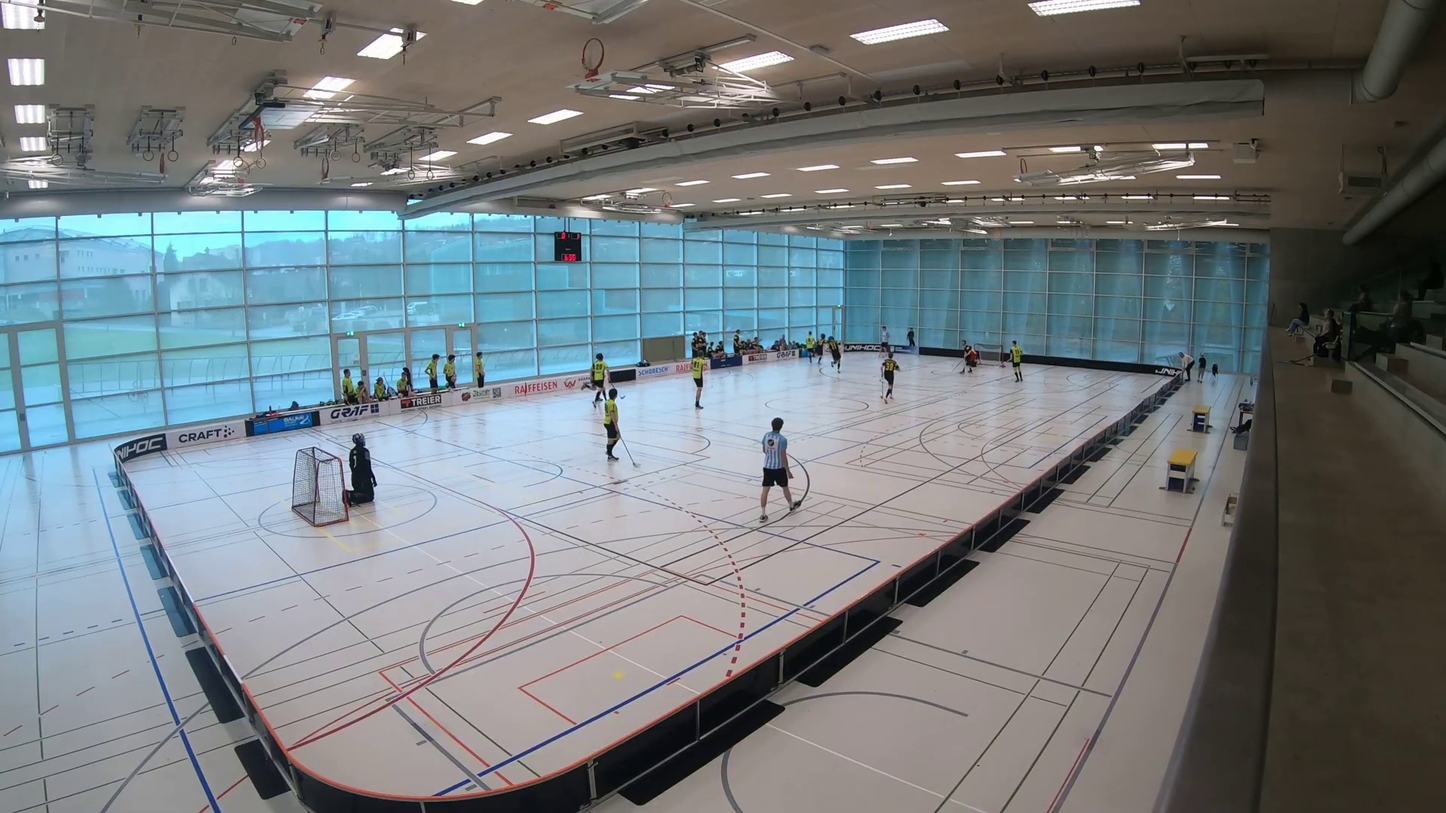Schiri: (756, 405, 808, 526), (879, 323, 890, 356)
goalkeeper: (336, 429, 379, 510), (968, 350, 982, 369)
player: (599, 387, 646, 470), (588, 353, 625, 409), (685, 350, 710, 413), (995, 339, 1026, 384), (879, 351, 902, 406), (582, 354, 602, 401), (827, 335, 847, 377), (955, 338, 975, 376), (803, 329, 816, 364), (816, 332, 826, 367)
